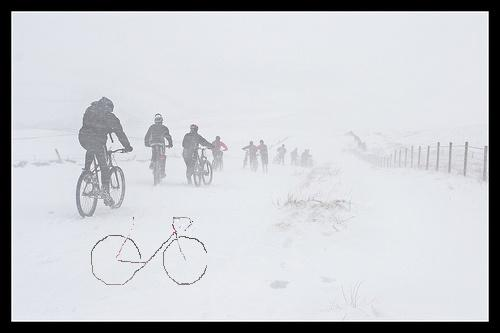tampered: (92, 218, 207, 285)
